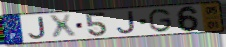5: (84, 12, 109, 38)
6: (176, 5, 202, 33)
G: (148, 7, 174, 33)
J: (116, 10, 137, 35), (27, 16, 47, 40)
X: (47, 13, 79, 41)
